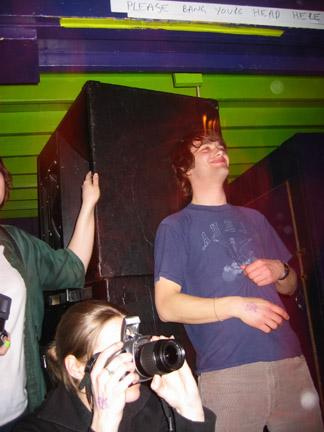person: (24, 298, 219, 432)
